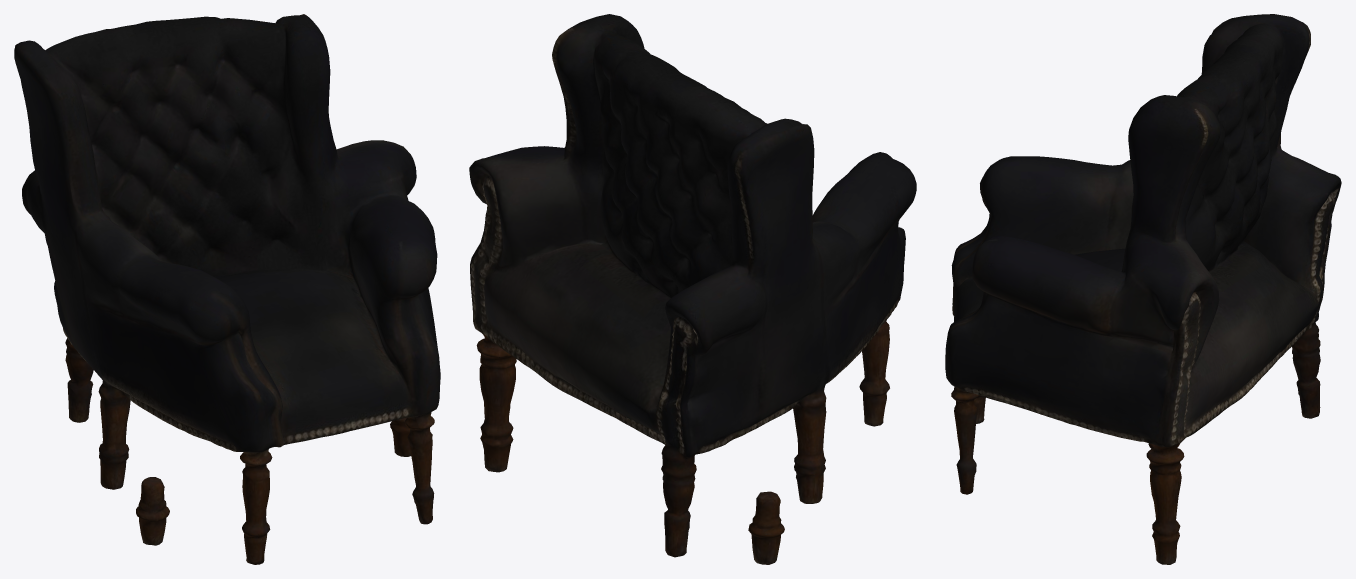
File: weapon_chair.glb
The picture shows the model from 3 angles, left to right: view 1: azimuth 30°, elevation 25°; view 2: azimuth 150°, elevation 25°; view 3: azimuth 270°, elevation 25°; orthographic projection. The views are drawn at different scales.
Size of the model in its own units: 0.6617 by 0.87 by 0.7058.
Materials: 1 (1 with a texture image).
